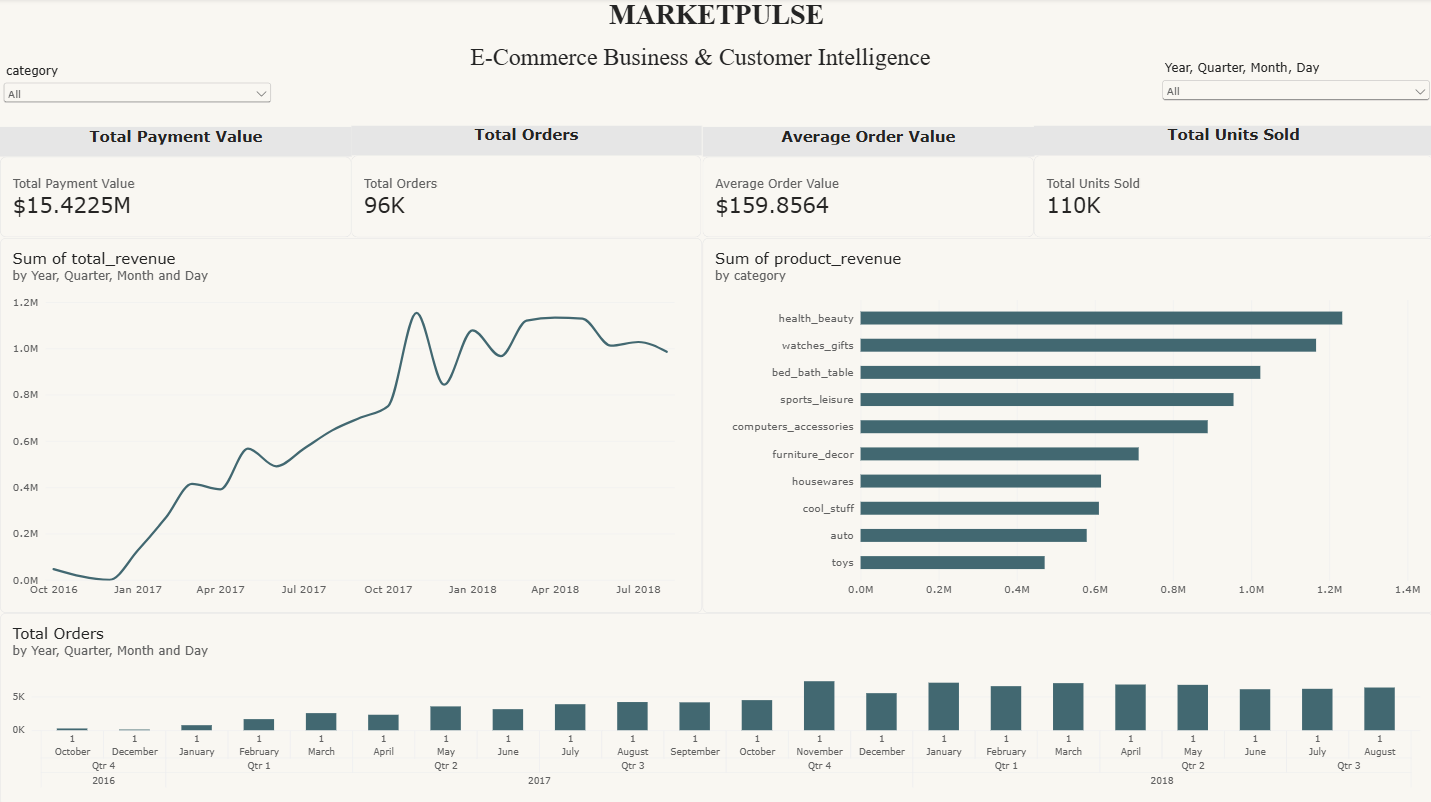

Layout of this report page (visuals, bound fields, positions):
{"tool":"powerbi","page":{"name":"Sales & Business Overview","canvas":[1920,1080],"ordinal":0},"visuals":[{"type":"cardVisual","title":"Total Payment Value","fields":{"Data":["public vw_monthly_revenue.Total Payment Value"]},"box":[0,172.9,471.4,148.2],"z":0},{"type":"cardVisual","title":"Total Orders","fields":{"Data":["public vw_monthly_revenue.Total Orders"]},"box":[471.4,170.8,469.3,150.3],"z":1000},{"type":"cardVisual","title":"Average Order Value","fields":{"Data":["public vw_monthly_revenue.Average Order Value"]},"box":[940.7,172.9,444.6,148.2],"z":2000},{"type":"cardVisual","title":"Total Units Sold","fields":{"Data":["public vw_monthly_revenue.Total Units Sold"]},"box":[1385.3,170.8,535.2,150.3],"z":3000},{"type":"lineChart","fields":{"Category":["public vw_monthly_revenue.month.Variation.Date Hierarchy.Year","public vw_monthly_revenue.month.Variation.Date Hierarchy.Quarter","public vw_monthly_revenue.month.Variation.Date Hierarchy.Month","public vw_monthly_revenue.month.Variation.Date Hierarchy.Day"],"Y":["Sum(public vw_monthly_revenue.total_revenue)"]},"box":[0,321.1,940.7,502.2],"z":4000},{"type":"clusteredBarChart","fields":{"Category":["public vw_category_performance.category"],"Y":["Sum(public vw_category_performance.product_revenue)"]},"box":[940.7,321.1,979.8,502.2],"z":5000},{"type":"textbox","box":[0,1062.1,18.5,18.5],"z":6000},{"type":"textbox","box":[0,0,1920.4,170.8],"z":7000},{"type":"slicer","fields":{"Values":["public vw_monthly_revenue.month.Variation.Date Hierarchy.Year","public vw_monthly_revenue.month.Variation.Date Hierarchy.Quarter","public vw_monthly_revenue.month.Variation.Date Hierarchy.Month","public vw_monthly_revenue.month.Variation.Date Hierarchy.Day"]},"box":[1552,84.4,368.4,86.4],"z":8000},{"type":"slicer","fields":{"Values":["public vw_category_performance.category"]},"box":[0,86.4,368.4,86.4],"z":9000},{"type":"clusteredColumnChart","fields":{"Category":["public vw_monthly_revenue.month.Variation.Date Hierarchy.Year","public vw_monthly_revenue.month.Variation.Date Hierarchy.Quarter","public vw_monthly_revenue.month.Variation.Date Hierarchy.Month","public vw_monthly_revenue.month.Variation.Date Hierarchy.Day"],"Y":["public vw_monthly_revenue.Total Orders"]},"box":[0,823.3,1920.4,257.3],"z":10000}]}

Visuals, with their boxes in screenshot pixels (x1, y1, x2, y2), scaled from the page's 1920x1080 canvas onto the 1431x802 screenshot:
"Total Payment Value" cardVisual: [0,128,351,238]
"Total Orders" cardVisual: [351,127,701,238]
"Average Order Value" cardVisual: [701,128,1032,238]
"Total Units Sold" cardVisual: [1032,127,1430,238]
lineChart - public vw_monthly_revenue.month.Variation.Date Hierarchy.Year x public vw_monthly_revenue.month.Variation.Date Hierarchy.Quarter: [0,238,701,611]
clusteredBarChart - public vw_category_performance.category x Sum(public vw_category_performance.product_revenue): [701,238,1430,611]
textbox: [0,789,14,801]
textbox: [0,0,1430,127]
slicer - public vw_monthly_revenue.month.Variation.Date Hierarchy.Year x public vw_monthly_revenue.month.Variation.Date Hierarchy.Quarter: [1157,63,1430,127]
slicer - public vw_category_performance.category: [0,64,275,128]
clusteredColumnChart - public vw_monthly_revenue.month.Variation.Date Hierarchy.Year x public vw_monthly_revenue.month.Variation.Date Hierarchy.Quarter: [0,611,1430,801]
